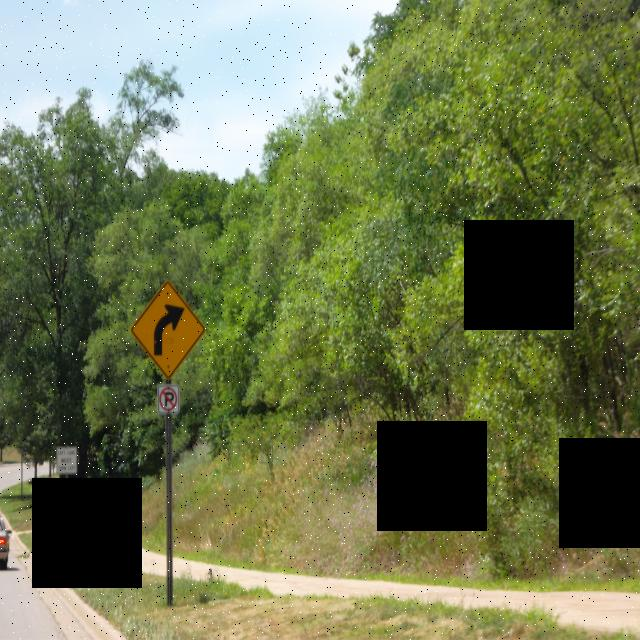regulatory: (160, 387, 179, 413)
warning: (125, 279, 208, 385)
